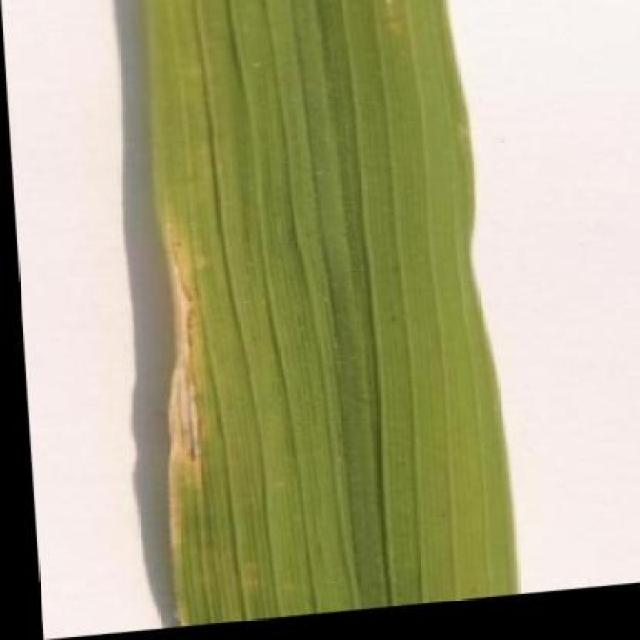Brown_Spot: (40, 0, 577, 635), (92, 185, 258, 543)
